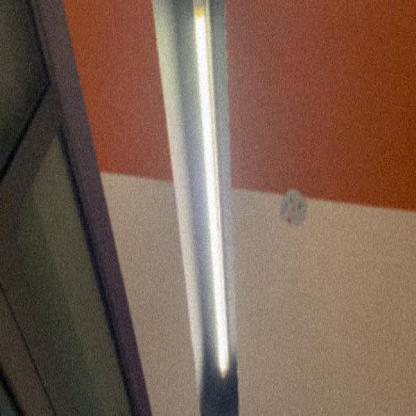light_on: (188, 0, 235, 385)
